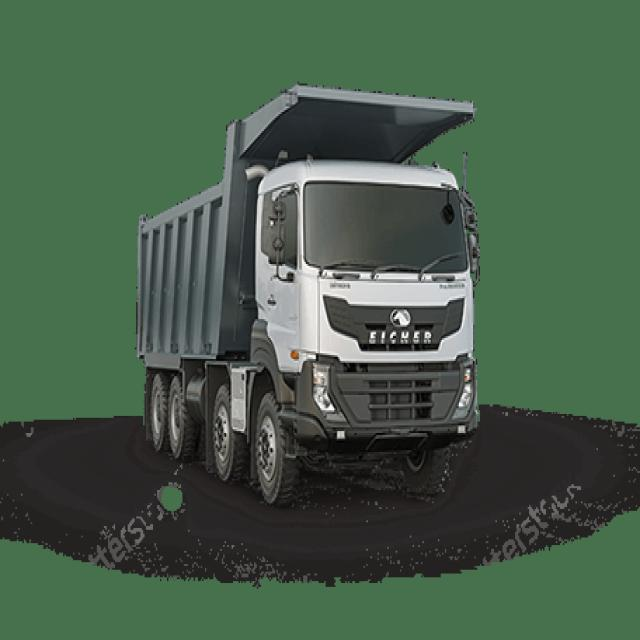truck: (136, 86, 479, 503)
